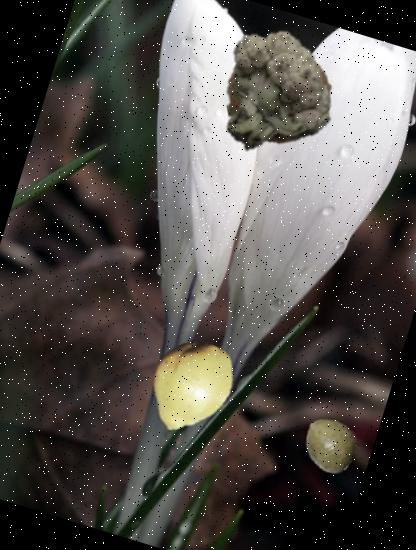Cauliflower: (193, 14, 348, 169)
Guava: (294, 409, 366, 480)
Kiwi: (212, 26, 346, 160)
Quince: (130, 326, 250, 447)
